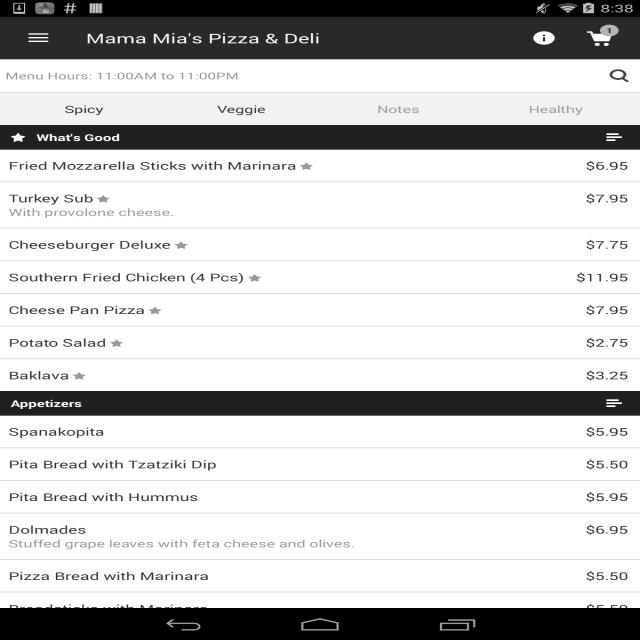ImageButton: (9, 17, 68, 59)
ImageView: (582, 27, 619, 49), (603, 66, 635, 86), (10, 133, 26, 142), (85, 38, 86, 38)
TextView: (0, 66, 603, 86), (8, 158, 575, 173), (8, 237, 575, 252), (8, 335, 575, 350), (8, 424, 575, 439), (8, 522, 575, 537), (8, 601, 575, 616), (8, 191, 575, 205), (8, 205, 575, 219), (8, 303, 575, 317), (8, 368, 575, 382), (8, 457, 575, 471), (8, 490, 575, 504), (8, 569, 575, 583), (8, 270, 566, 284), (11, 397, 600, 410), (8, 537, 575, 550), (37, 131, 600, 144), (86, 29, 320, 47), (518, 22, 570, 54), (576, 270, 628, 284), (586, 158, 628, 173), (586, 237, 628, 252), (586, 335, 628, 350), (586, 424, 628, 439), (586, 522, 628, 537), (586, 601, 628, 616), (586, 191, 628, 205), (586, 303, 628, 317), (586, 368, 628, 382), (586, 457, 628, 471), (586, 490, 628, 504), (586, 569, 628, 583), (600, 25, 619, 36)
